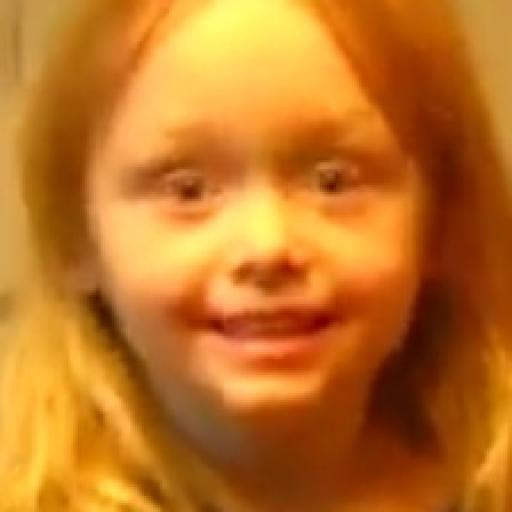Autism: (32, 0, 489, 476)
